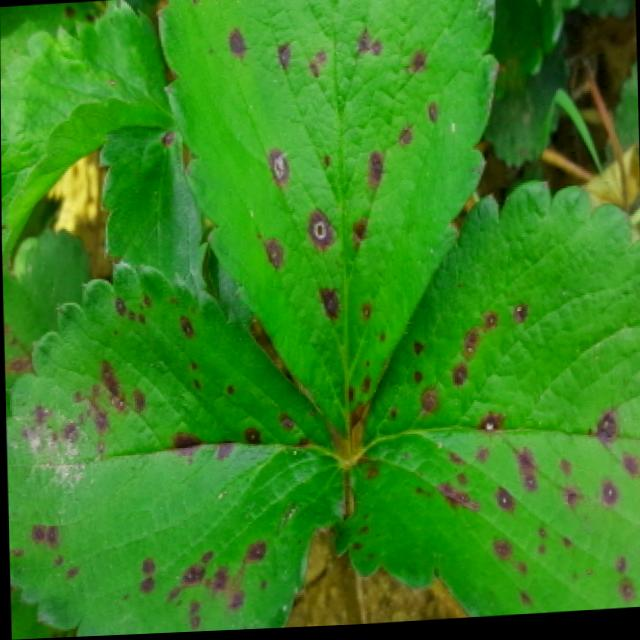Leaf Spot: (154, 0, 499, 457), (329, 181, 640, 621), (4, 261, 346, 638), (96, 125, 212, 296), (2, 228, 91, 416), (0, 1, 98, 73), (8, 590, 68, 640), (90, 0, 163, 15)
